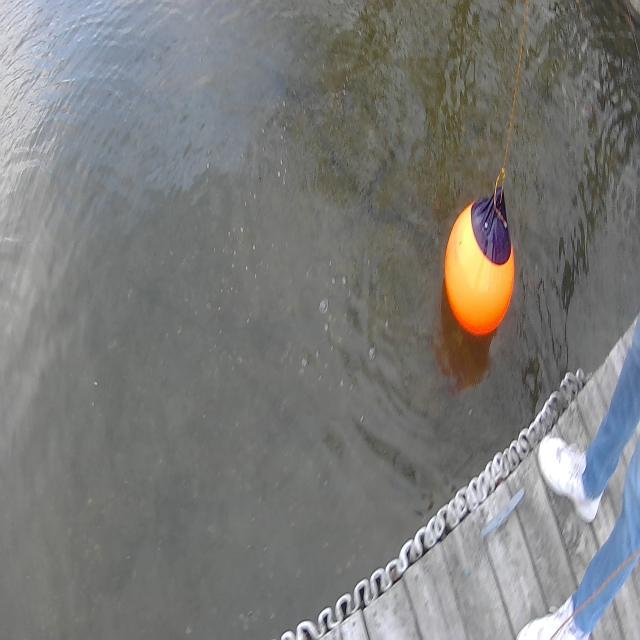Buoy: (442, 171, 526, 347)
